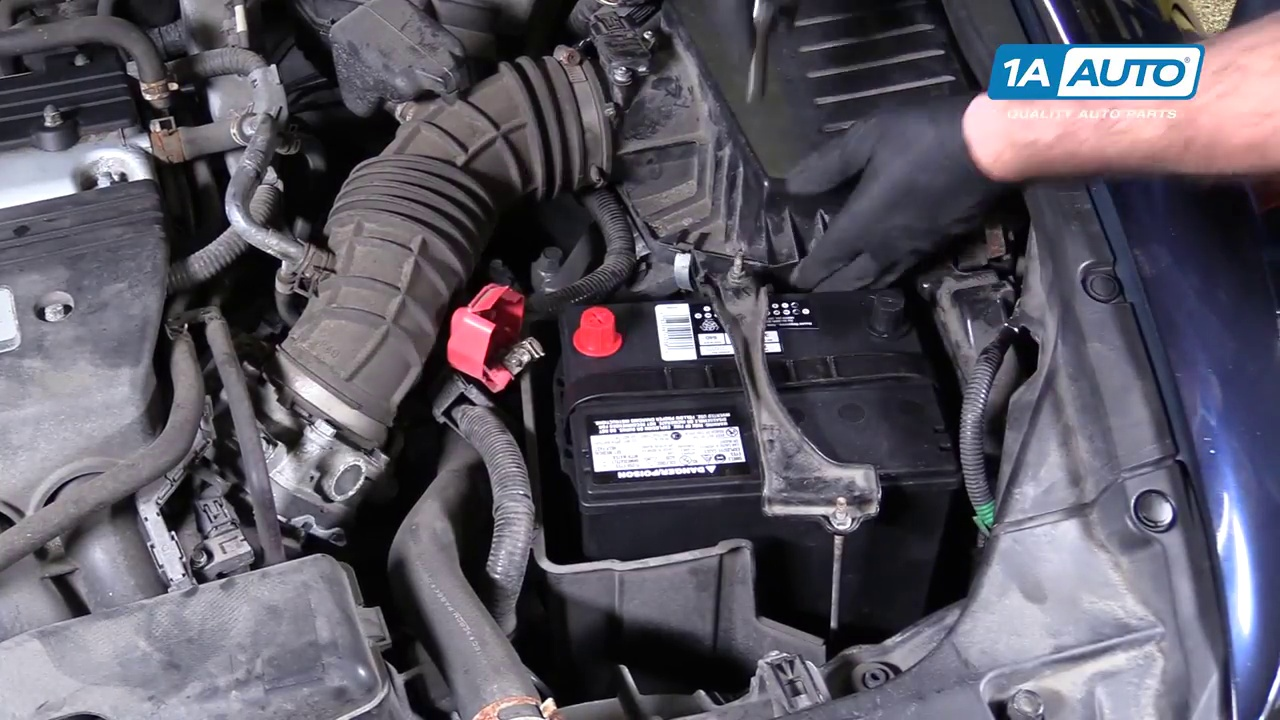battery: (555, 283, 951, 475)
pos_disconnected: (435, 276, 633, 393)
